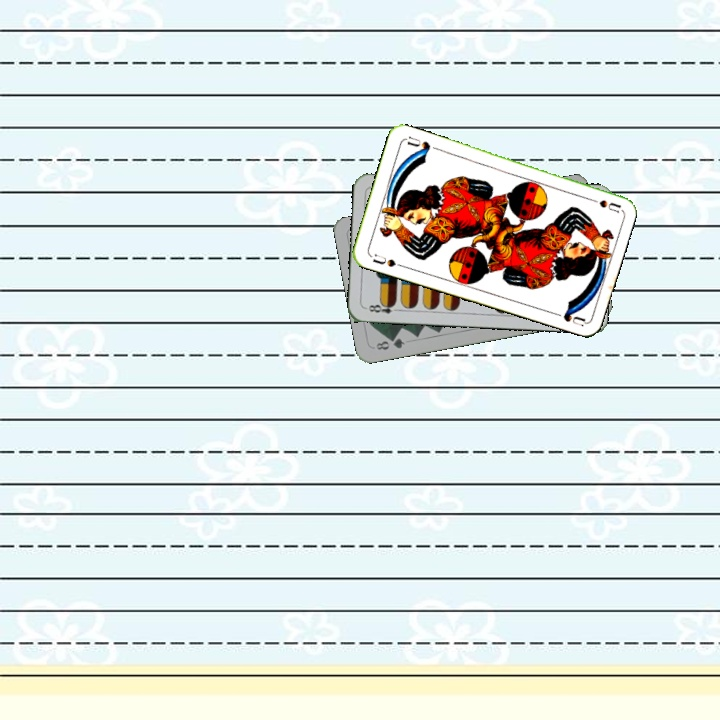E8: (362, 298, 403, 316)
G8: (372, 334, 407, 353)
SU: (582, 193, 622, 215), (366, 250, 406, 270)
